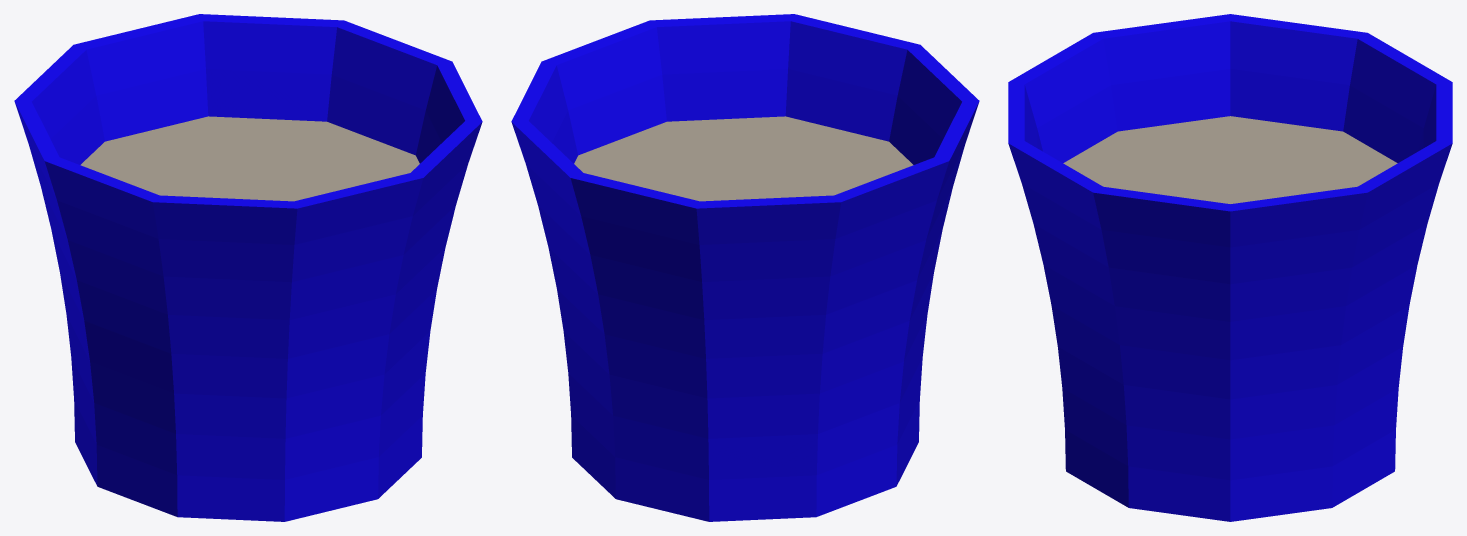
File: стак3.fbx
3 renders of one model, left to right at view 1: azimuth 30°, elevation 25°; view 2: azimuth 150°, elevation 25°; view 3: azimuth 270°, elevation 25°, orthographic.
Visible parts, largest first — view 1: Труба, Шапка_2_2; view 2: Труба, Шапка_2_2; view 3: Труба, Шапка_2_2.
Part boxes in pixels (x1=…): Труба: x1=14, y1=14, x2=482, y2=521; Шапка_2_2: x1=80, y1=116, x2=419, y2=201; Труба: x1=511, y1=14, x2=979, y2=521; Шапка_2_2: x1=574, y1=116, x2=913, y2=201; Труба: x1=1008, y1=14, x2=1452, y2=521; Шапка_2_2: x1=1063, y1=116, x2=1397, y2=203.
Size of the model in its own units: 14.58 by 11.57 by 13.87.
